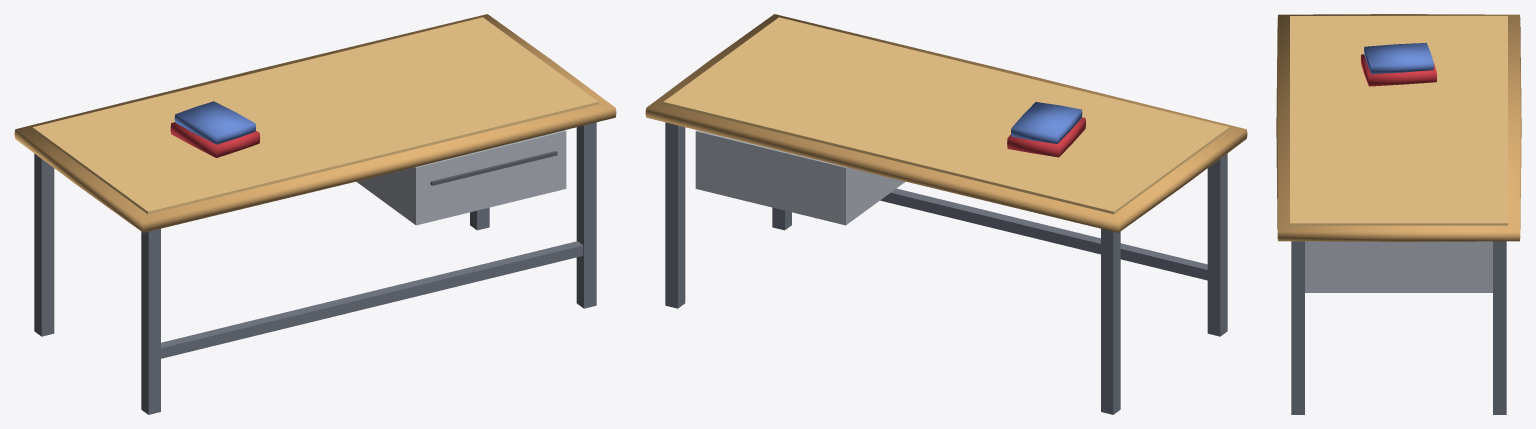
File: student_desk.glb
3 renders of one model, left to right at view 1: azimuth 30°, elevation 25°; view 2: azimuth 150°, elevation 25°; view 3: azimuth 270°, elevation 25°, orthographic. The views are drawn at different scales.
Visible parts, largest first — view 1: root; view 2: root; view 3: root.
Boxes of the visible parts, left/top/right/bottom form: root: left=14, top=14, right=616, bottom=414; root: left=645, top=14, right=1247, bottom=414; root: left=1276, top=14, right=1521, bottom=414.
Size of the model in its own units: 1.9 by 0.86 by 0.9.
